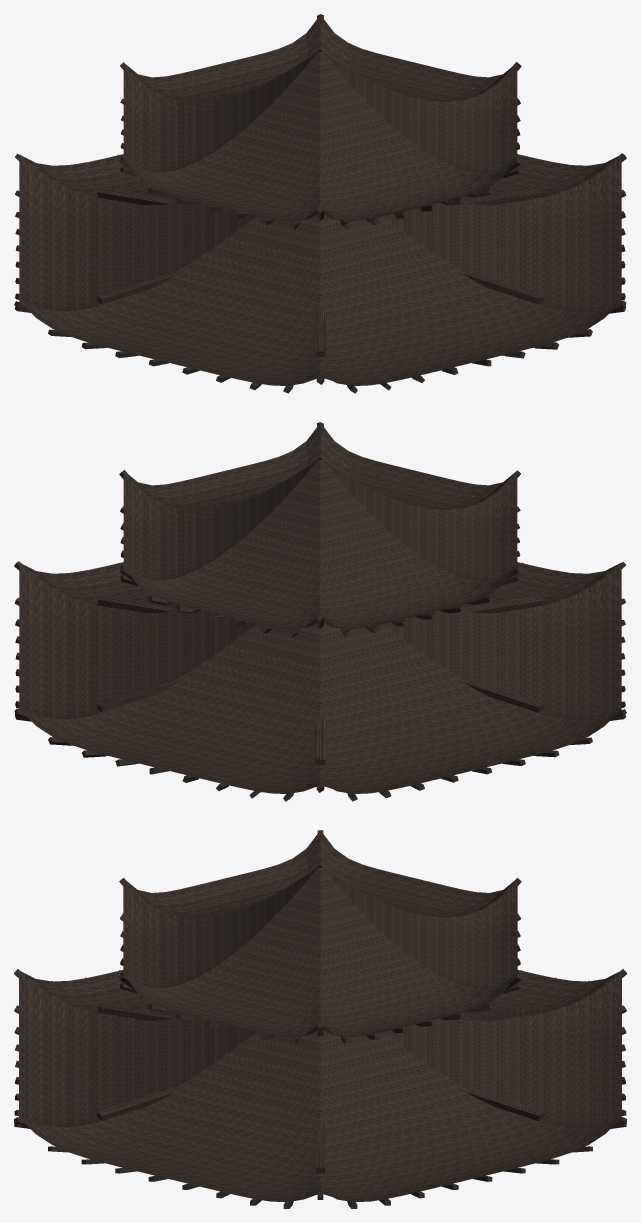
The model's file is pavilion_ceiling.glb.
3 views of the same model, one above another, from view 1: azimuth 30°, elevation 25°; view 2: azimuth 150°, elevation 25°; view 3: azimuth 270°, elevation 25° (orthographic).
Parts seen in each view (by area): view 1: pavilion_ceiling0; view 2: pavilion_ceiling0; view 3: pavilion_ceiling0.
Boxes of the visible parts, bbox=[...] form: pavilion_ceiling0: bbox=[14, 14, 626, 393]; pavilion_ceiling0: bbox=[14, 422, 626, 801]; pavilion_ceiling0: bbox=[14, 830, 626, 1208].
Size of the model in its own units: 13.27 by 4.49 by 11.53.
Materials: 1 (1 with a texture image).
